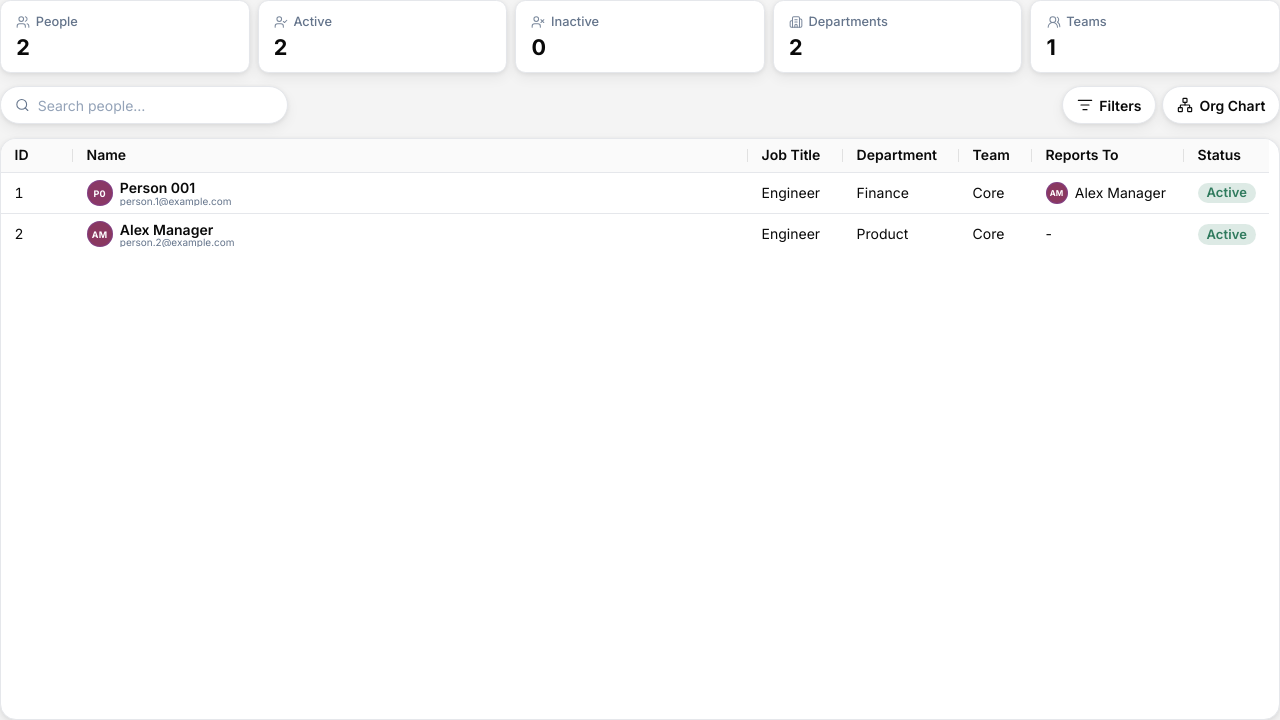
Test: PeoplePage › opens the manager in the same panel
Click the button "Alex Manager" in the row of "P0": (1120, 193) [1075, 184, 1166, 202]
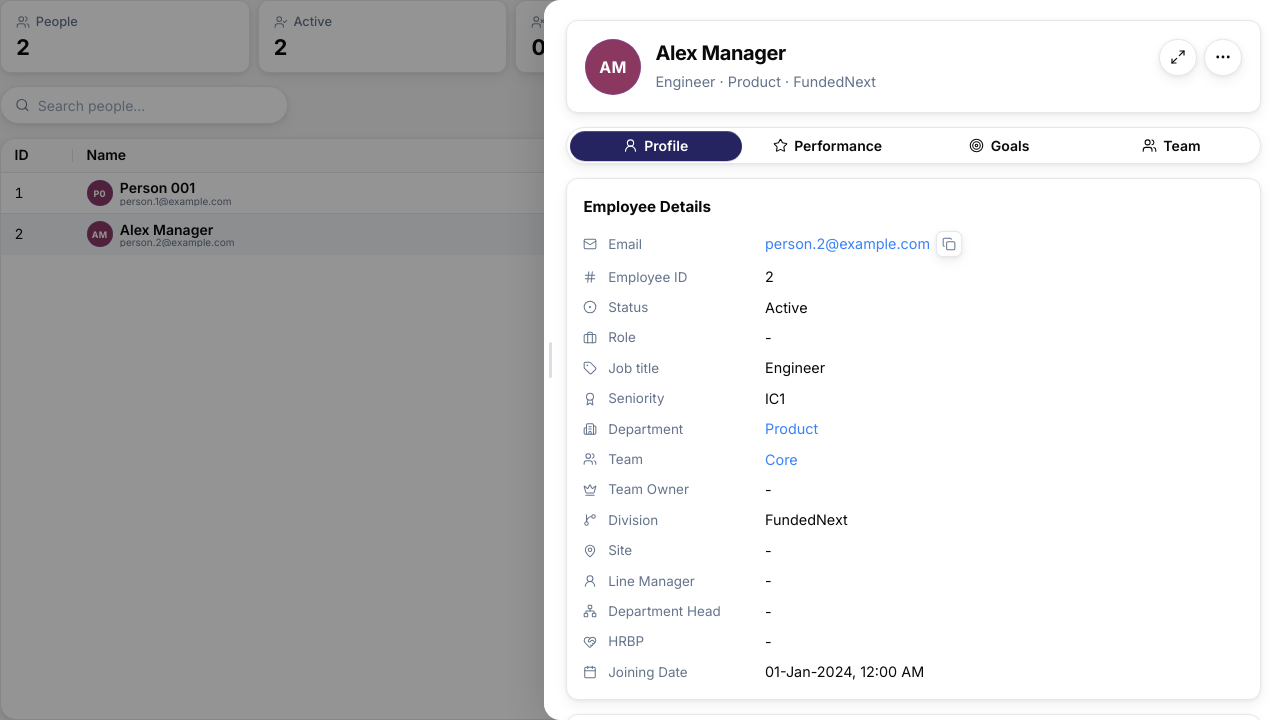
Expected: the dialog "Alex Manager" is shown, [544, 0, 1279, 719]
